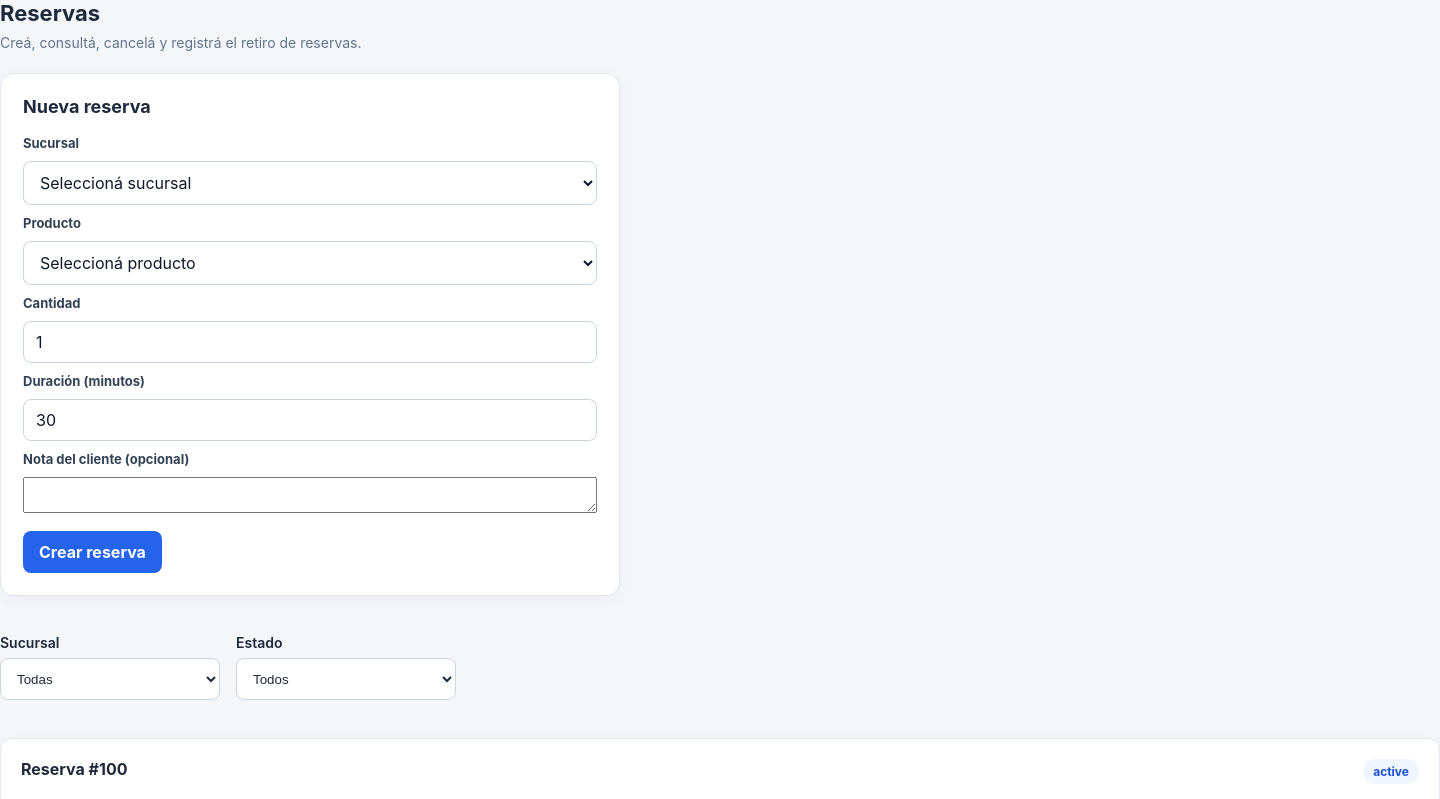
Integración de Reservations › crea una reserva con los datos ingresados
Check: the heading "Reserva #100" is shown, box [21,759,128,779]
# El primer selector corresponde a la sucursal del formulario.
Select "Sucursal Centro" in the 1st dropdown at (310, 183), box [23,161,597,205]
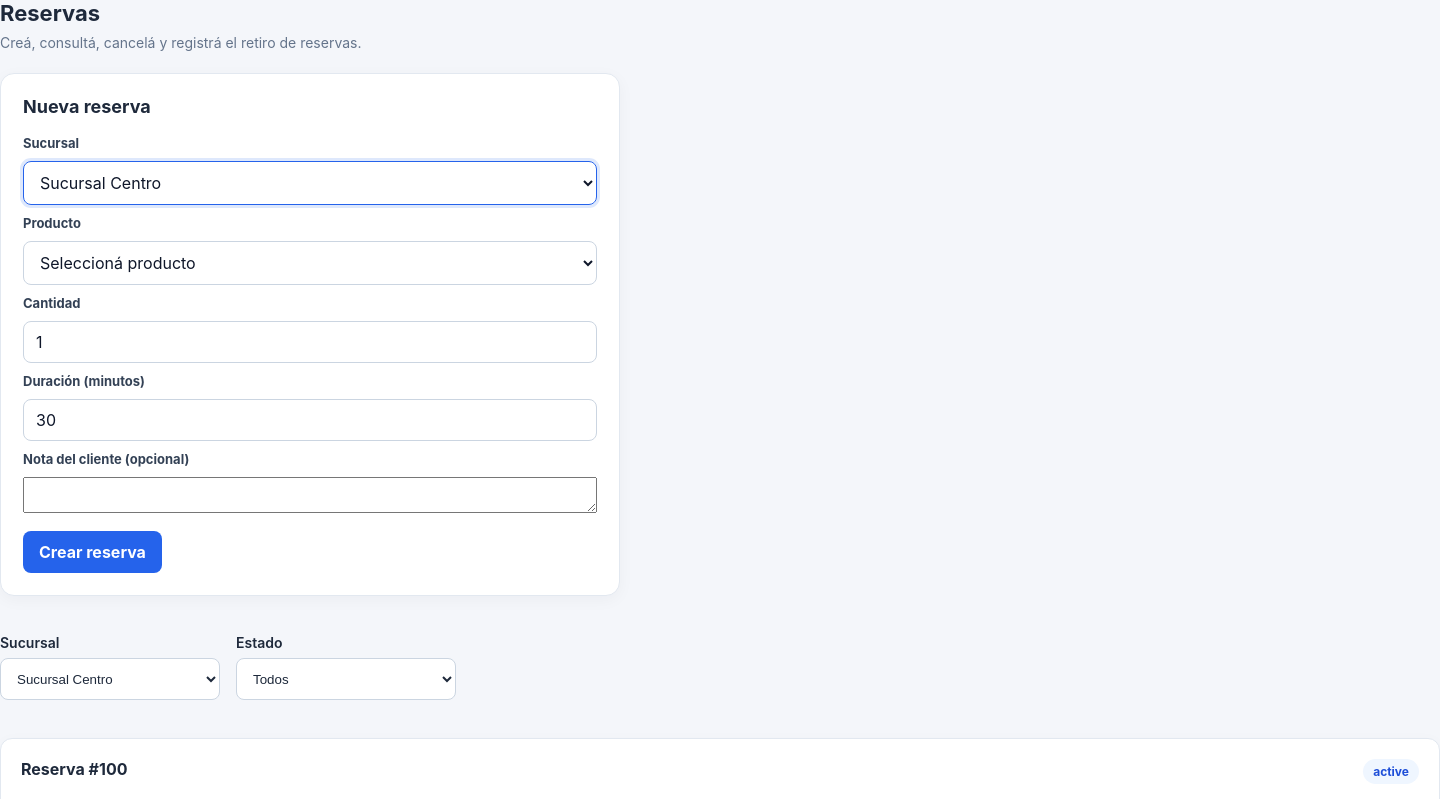
# El segundo selector corresponde al producto.
Select "Martillo" in the 2nd dropdown at (310, 263), box [23,241,597,285]
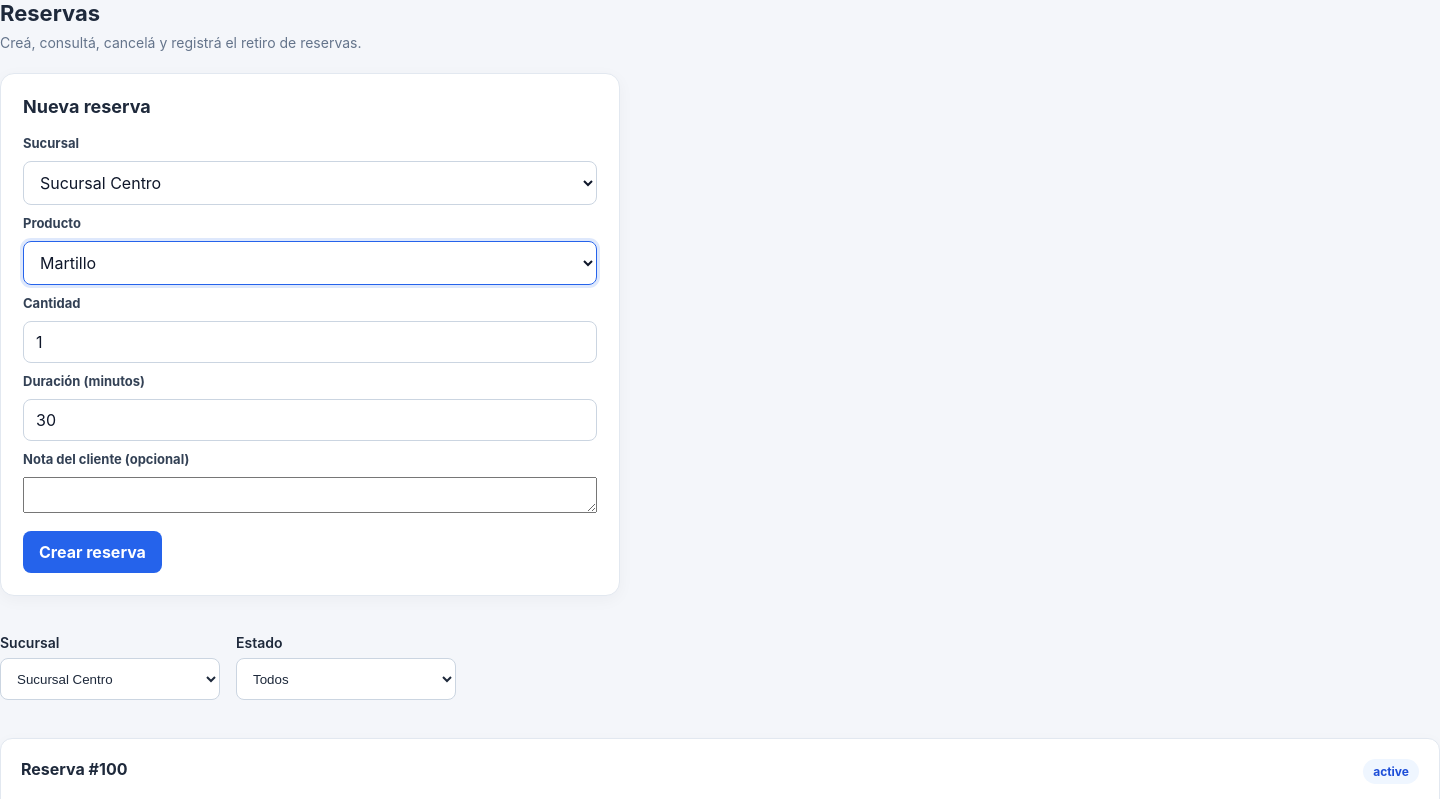
Replace the text in the 1st number field showing "1" with "3" at (310, 342), box [23,321,597,363]
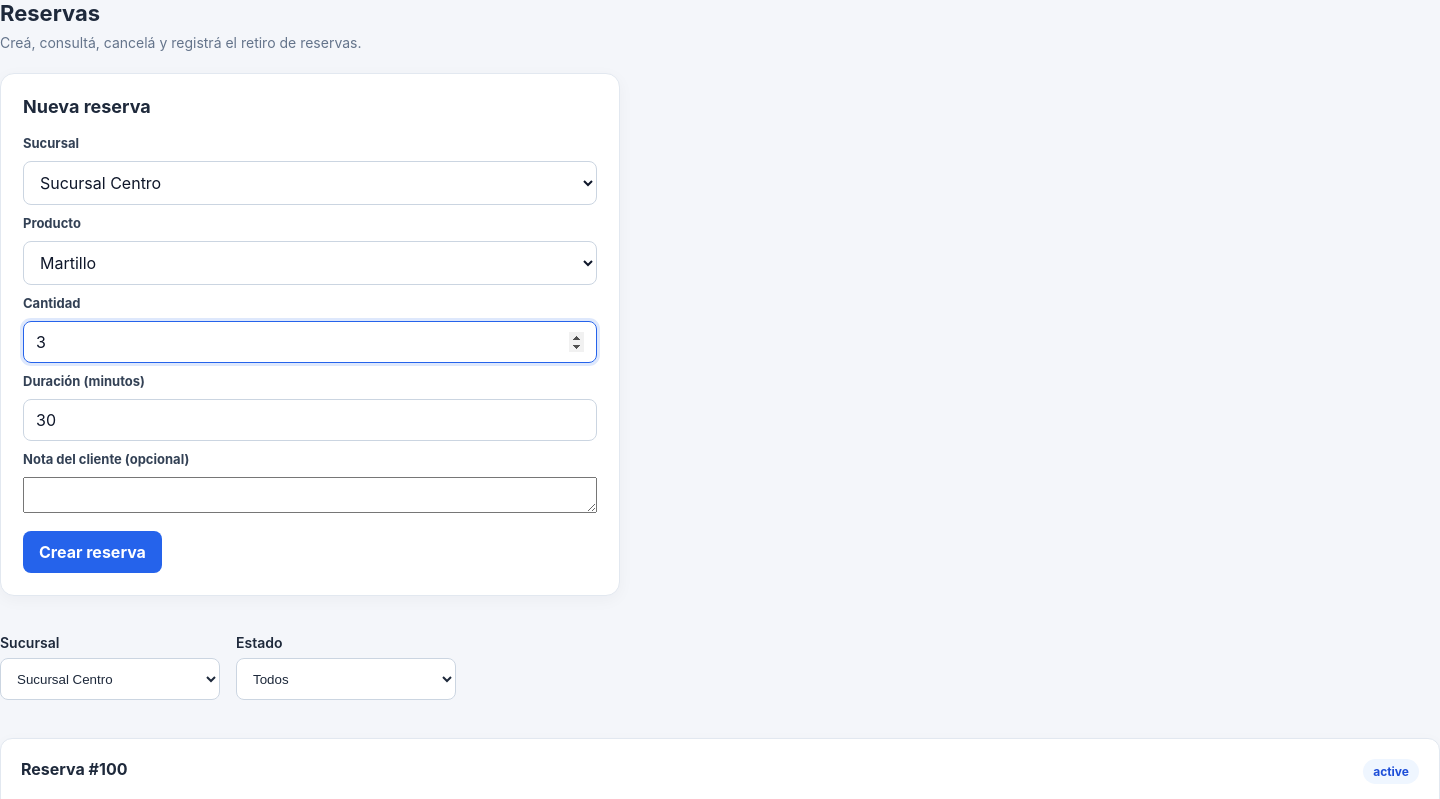
Replace the text in the 2nd number field showing "30" with "45" at (310, 420), box [23,399,597,441]
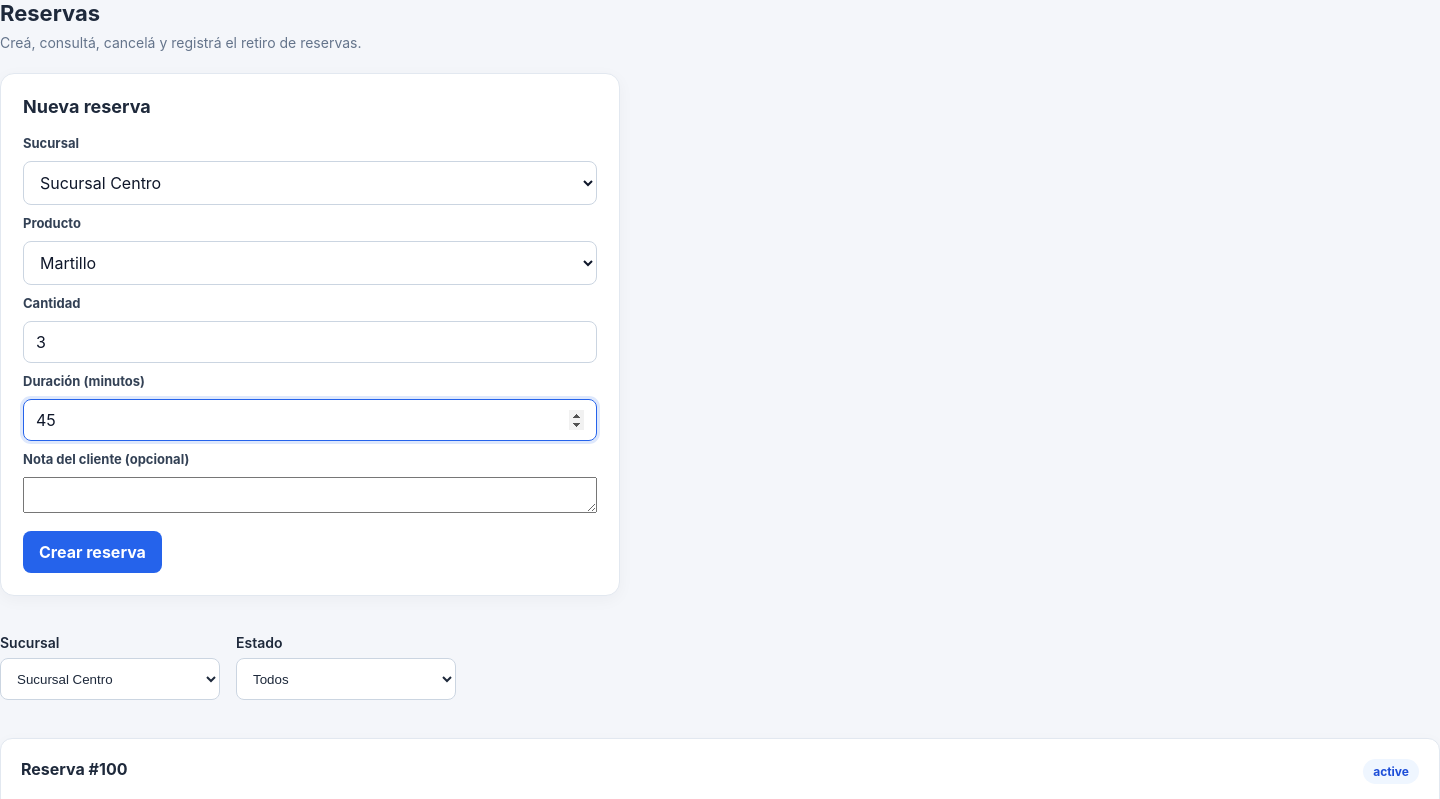
Type "Preparar para retirar" into the text box at (310, 495), box [23,477,597,513]
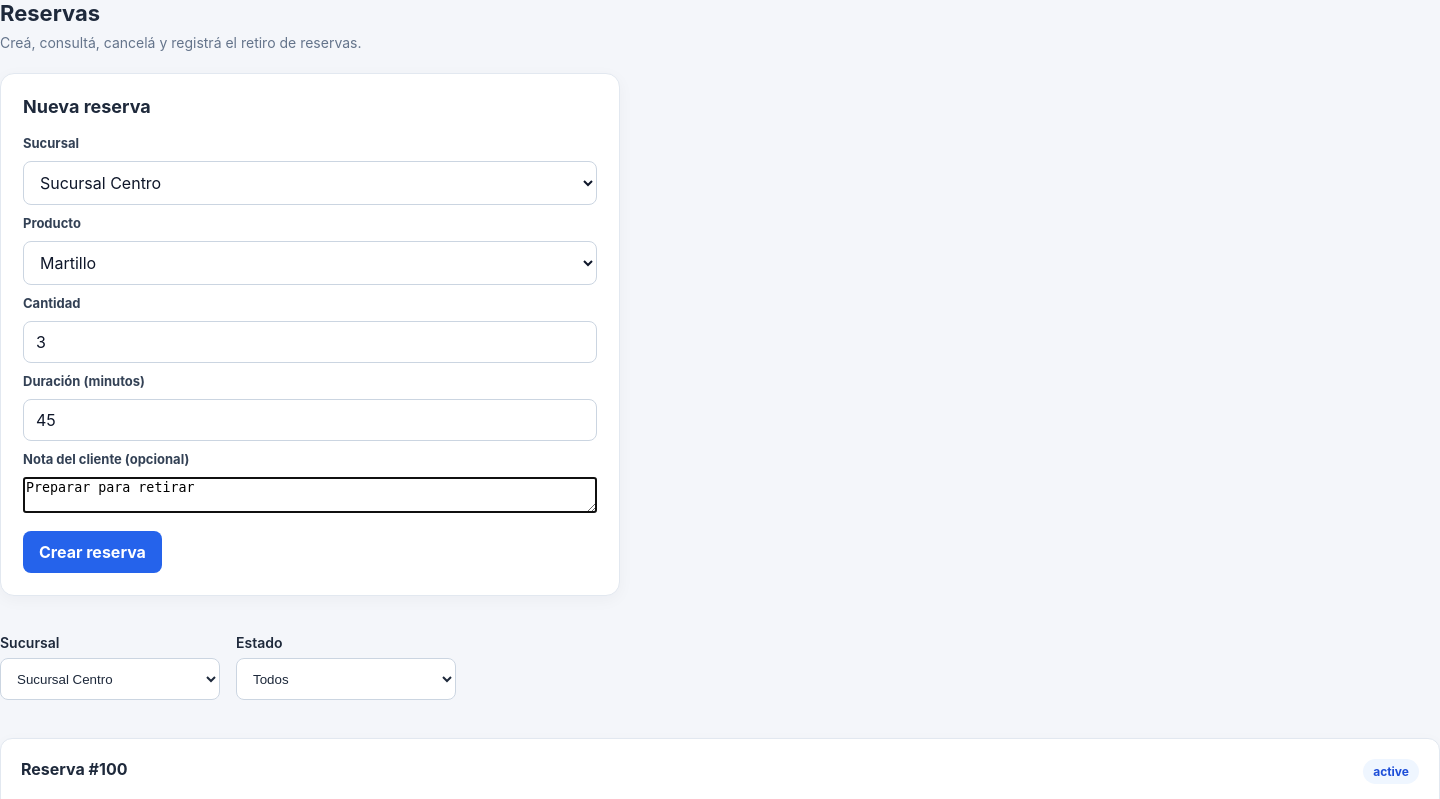
Click the button "Crear reserva" at (92, 552), box [23,531,162,573]
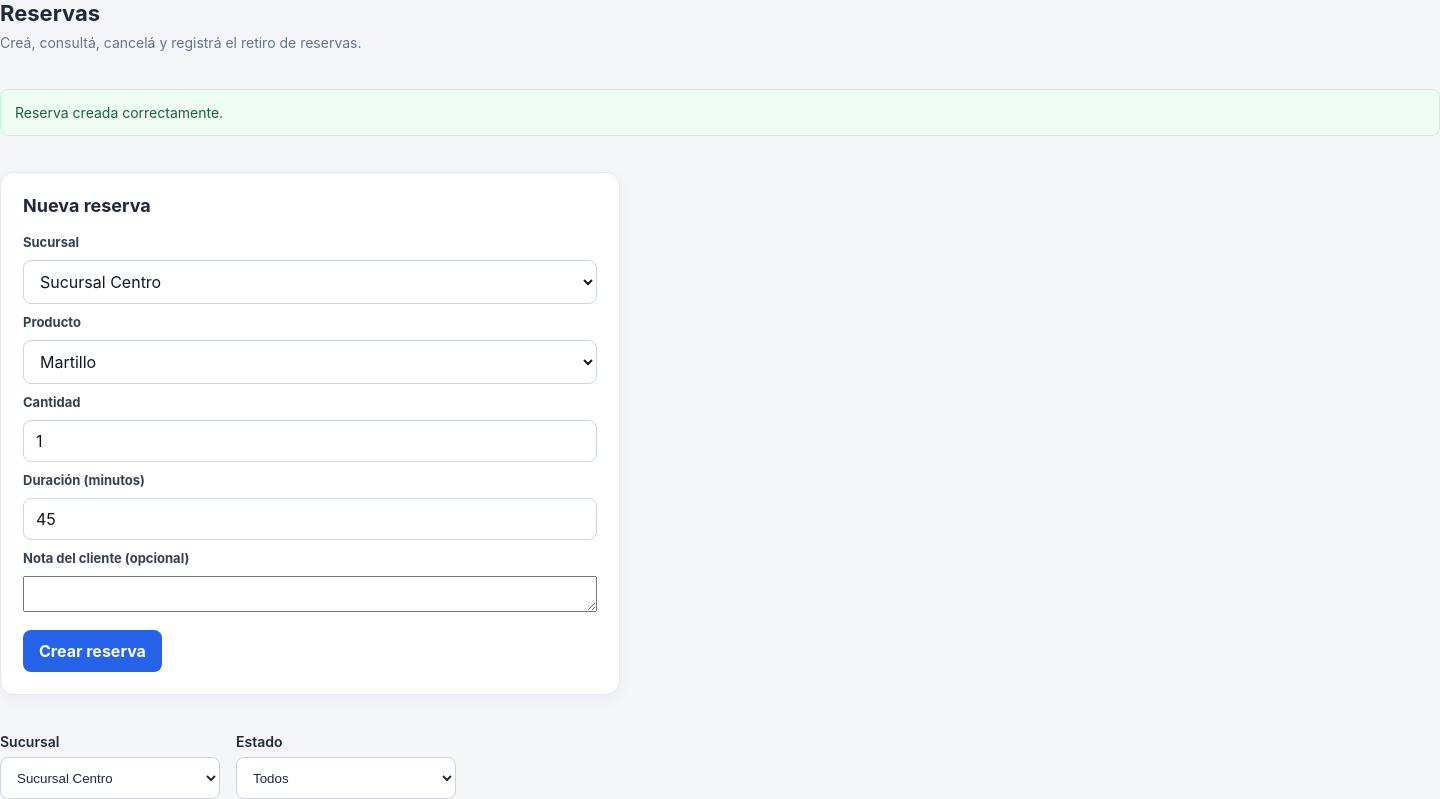
Check: the text "Reserva creada correctamente." is shown, box [0,89,1439,136]
